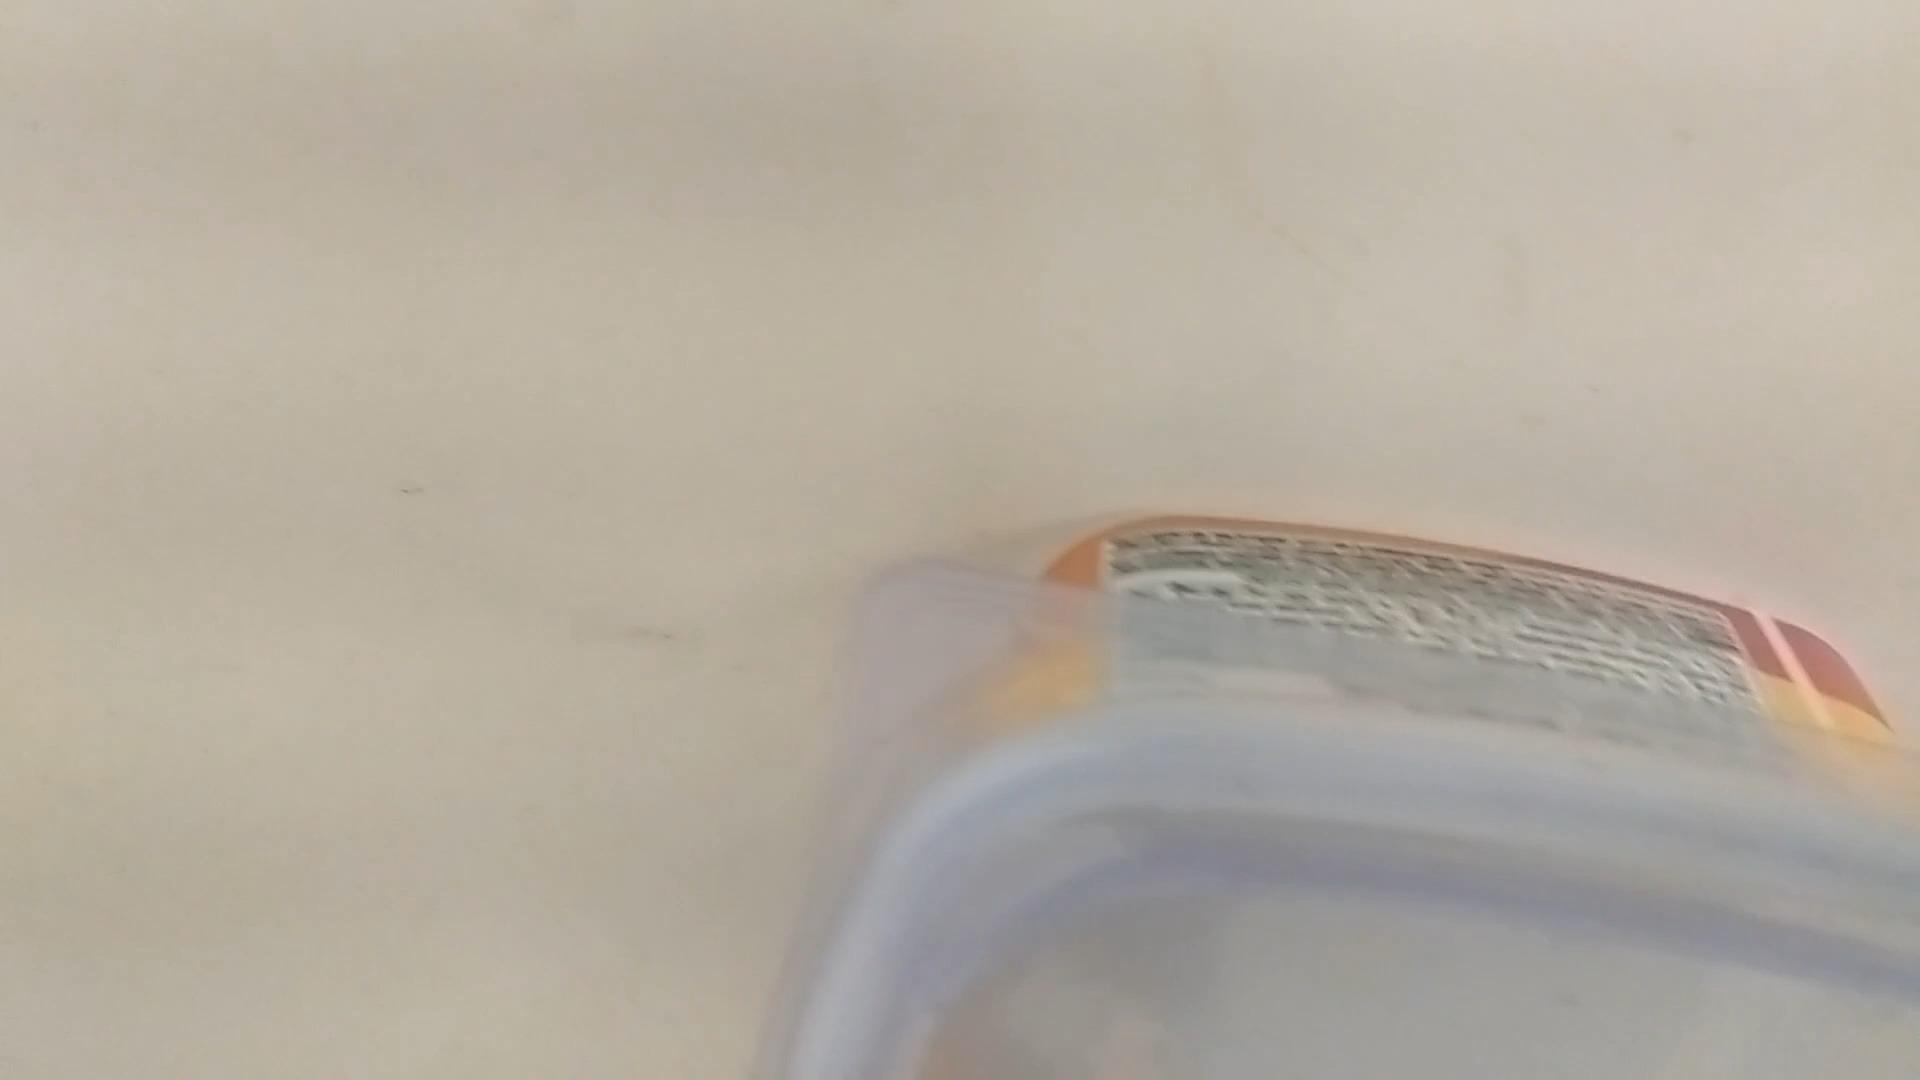butter: (756, 500, 1920, 1080)
